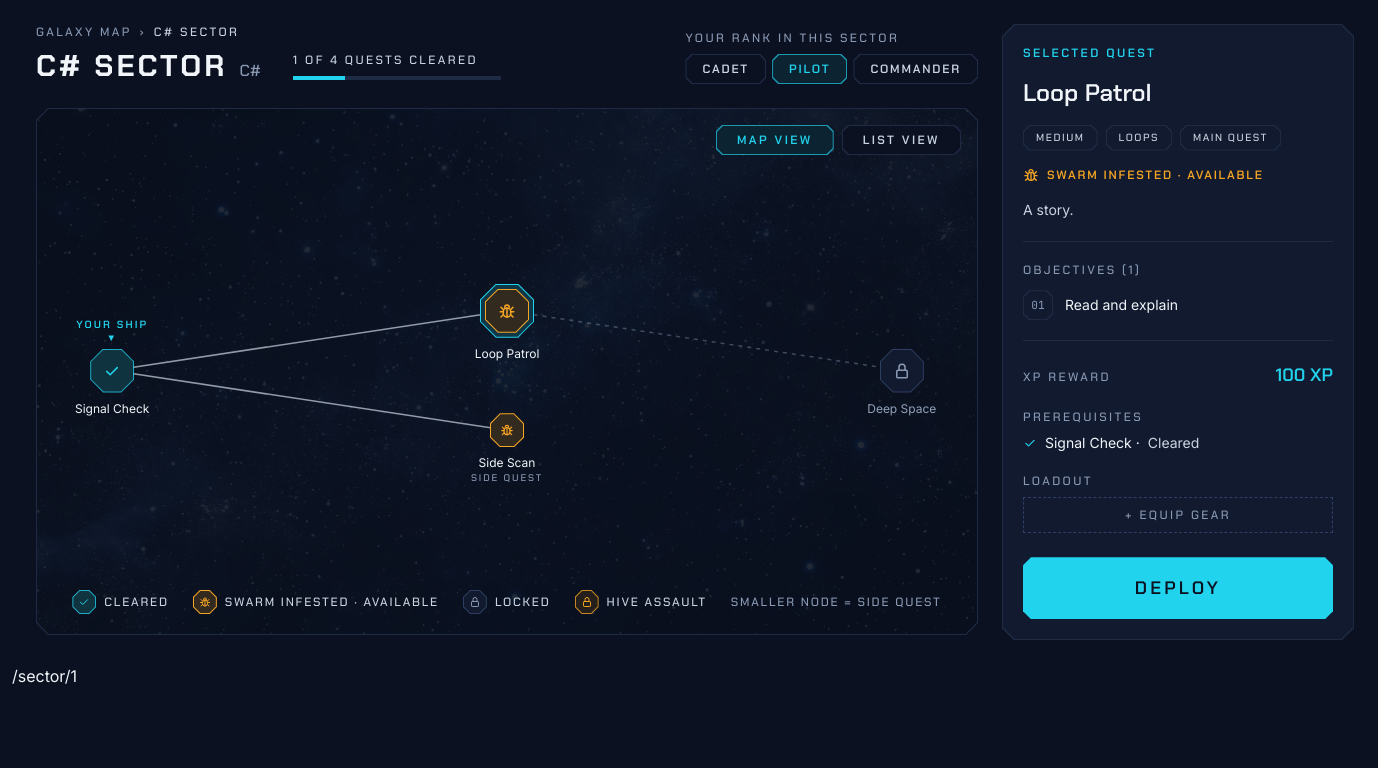
Scenario: SectorPage › offers a replay of a cleared quest at its replay XP
This screenshot has width=1378, height=768.
Expected: the heading "C# SectorC#" is shown, x1=36 y1=48 x2=261 y2=84
Click the button named "Signal Check".
click(112, 370)  # box x1=90 y1=348 x2=134 y2=392
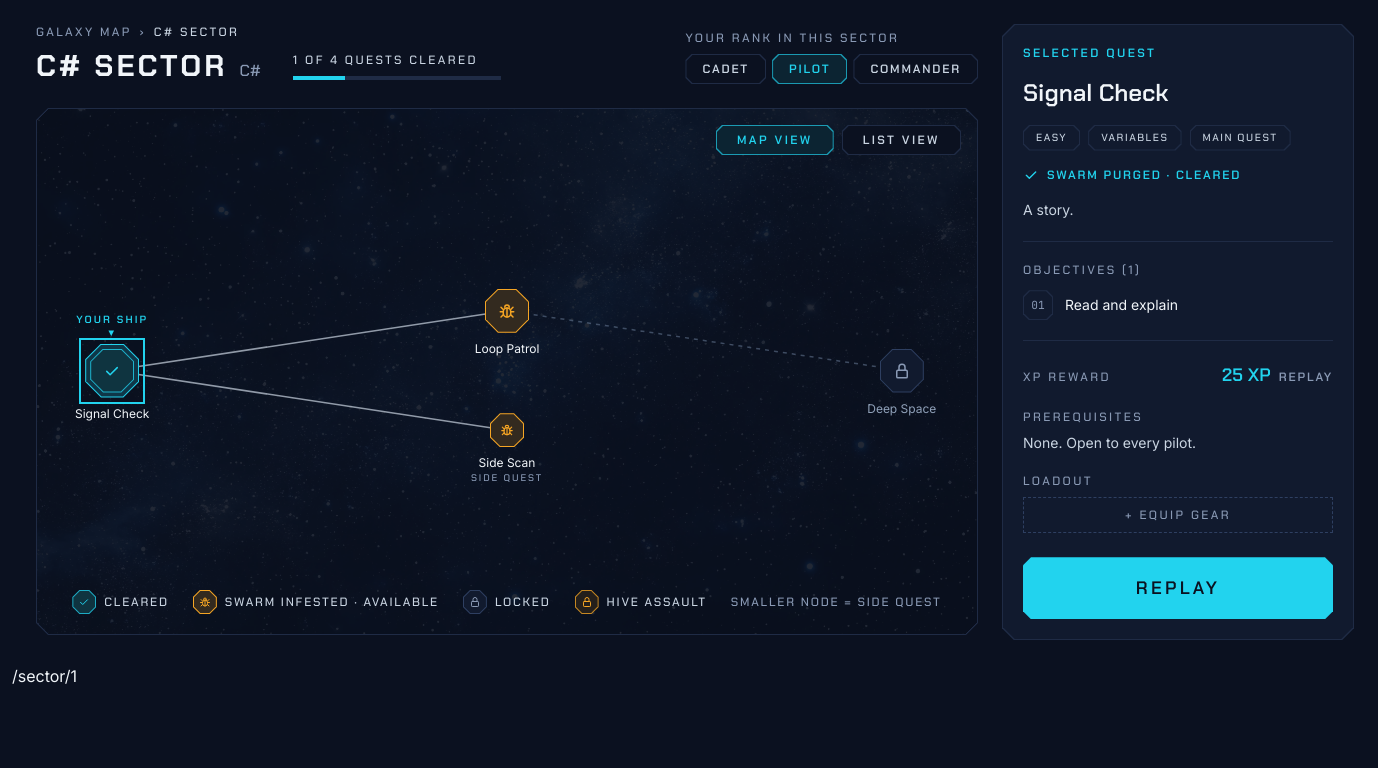
Expected: the text "Swarm purged · Cleared" is shown, x1=1023 y1=167 x2=1241 y2=183
Expected: the text "25 XP" is shown, x1=1222 y1=363 x2=1271 y2=387
